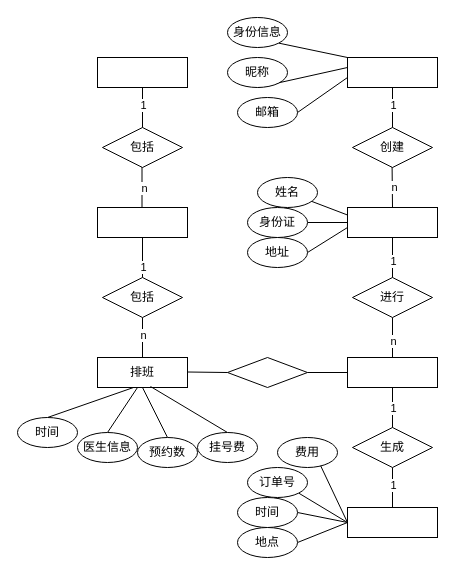
Some shapes in this 455 by 575 pixel diagram are drawn without their labels. Each missing label, with the box of its shape:
医院: (96, 56, 188, 88)
就诊人: (346, 206, 438, 238)
改变: (226, 356, 308, 388)
用户: (346, 56, 438, 88)
科室: (96, 206, 188, 238)
订单: (346, 506, 438, 538)
预约记录: (346, 356, 438, 388)
